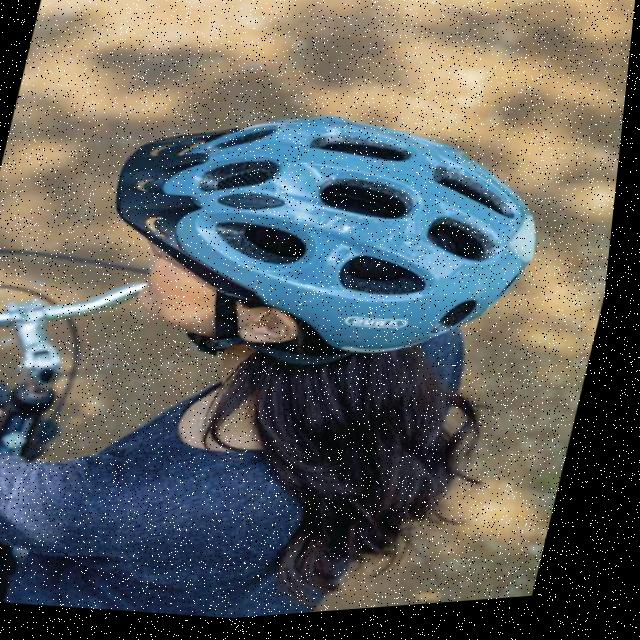illegal_helmet: (64, 71, 591, 422)
